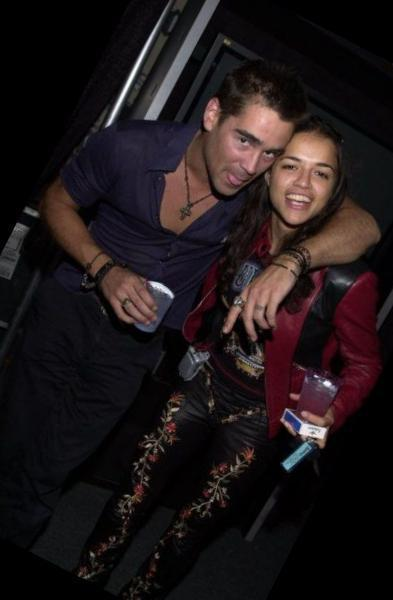Drunk: (220, 97, 279, 193), (283, 130, 332, 220)
